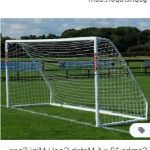goals: (4, 35, 150, 130)
